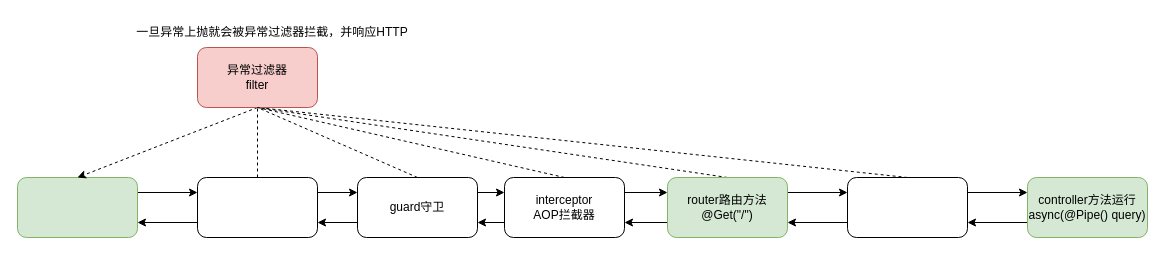
Image size: 1165x255. Some labels were removed from this diagram. Here are the shapes that lost their labels. From the top down, the centre of each, then its label:
At (x=77, y=207): "HTTP请求".
At (x=257, y=207): "middleware中间件".
At (x=907, y=207): "pipe管道".
